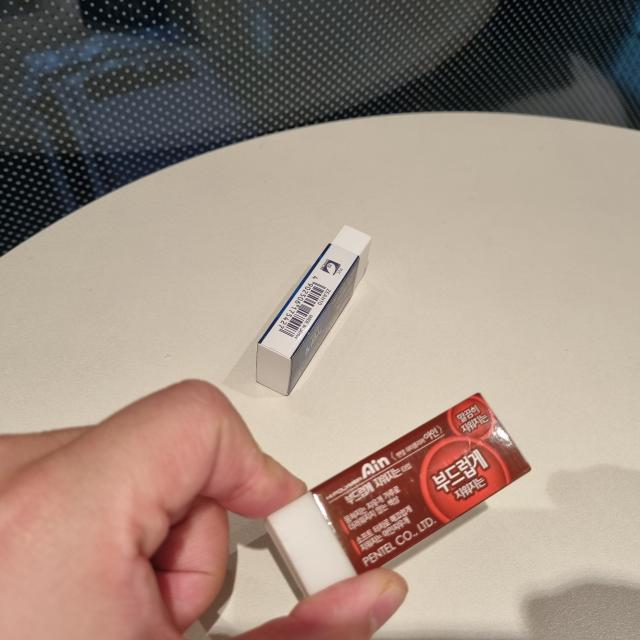blue: (249, 222, 373, 398)
red: (263, 383, 541, 607)
